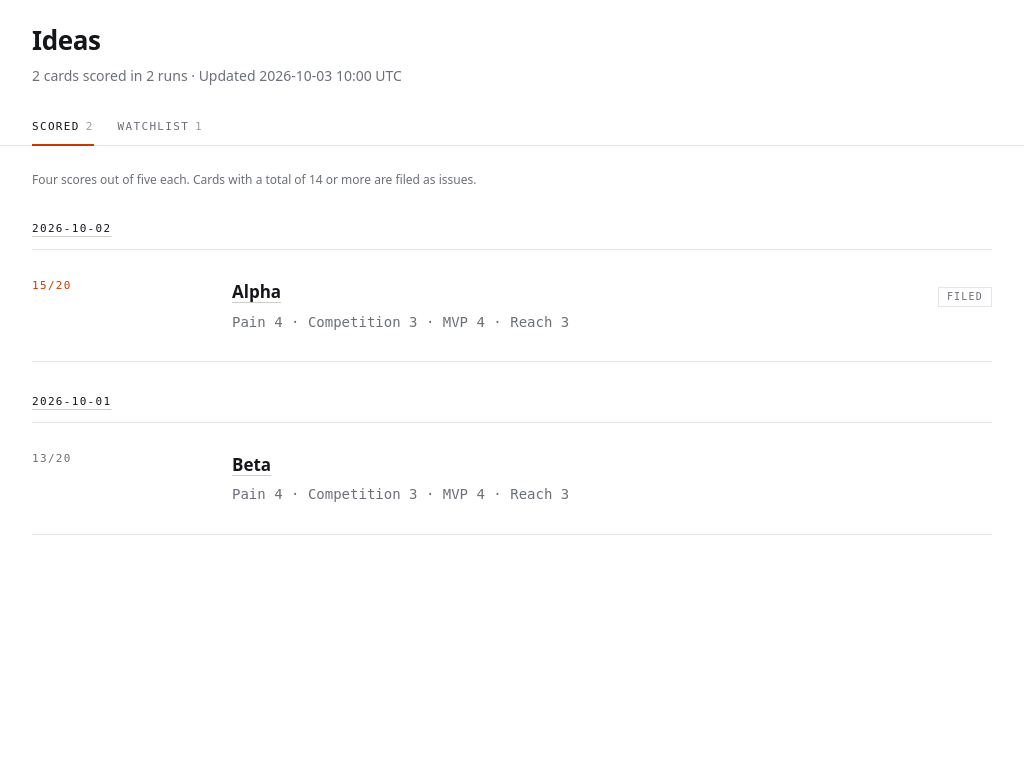
Test: Ideas › lists scored cards newest run first, marks the filed ones, and switches to the watchlist
This screenshot has width=1024, height=768.
Check: the headings read "Alpha", "Beta", in this order, box x1=232 y1=280 x2=281 y2=303; x1=232 y1=452 x2=271 y2=476
Check: the text "filed" is shown once, box x1=938 y1=287 x2=992 y2=307
Step 1. Click the button "Watchlist 1" → click(160, 129), box x1=118 y1=111 x2=203 y2=146
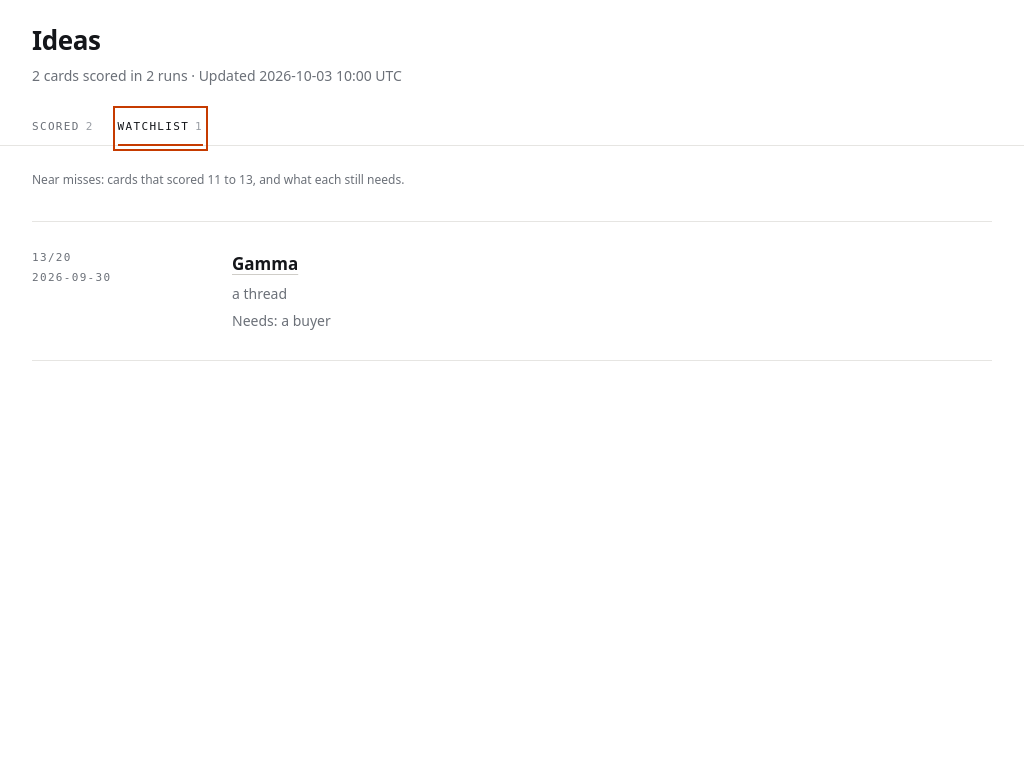
Check: the text "Needs: a buyer" is shown, box x1=232 y1=311 x2=331 y2=330
